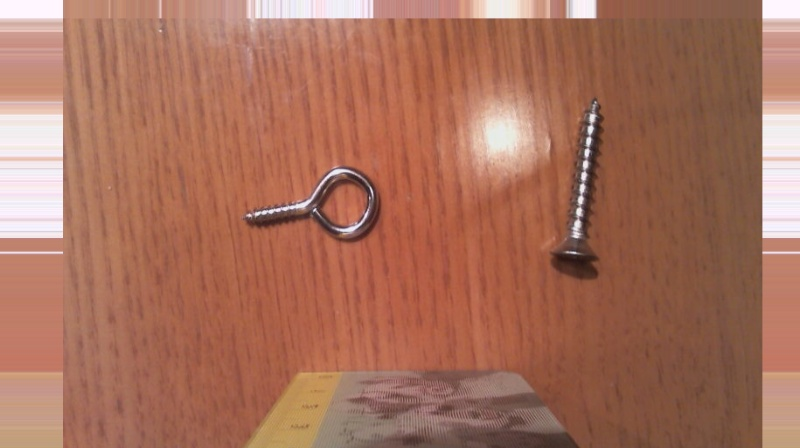O001: (239, 163, 383, 244)
S001: (546, 96, 608, 269)
